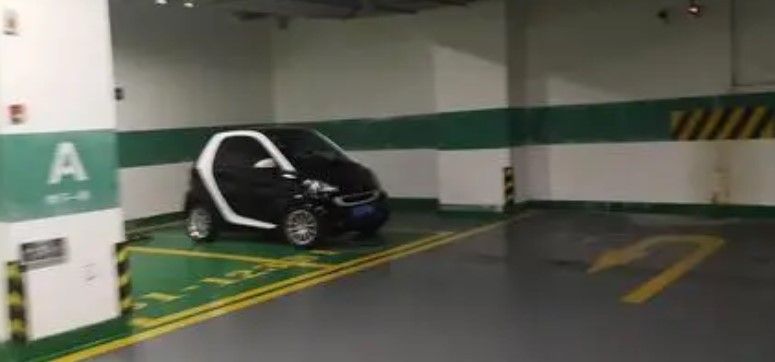car: (184, 124, 391, 250)
